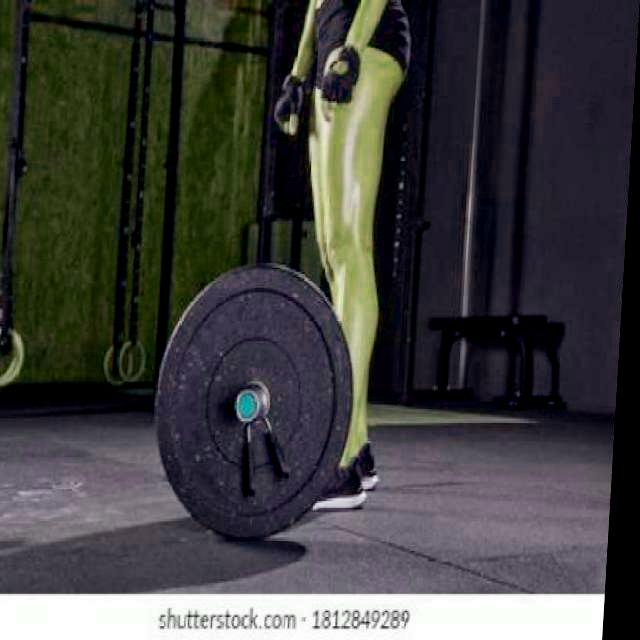barbell: (145, 261, 369, 547)
